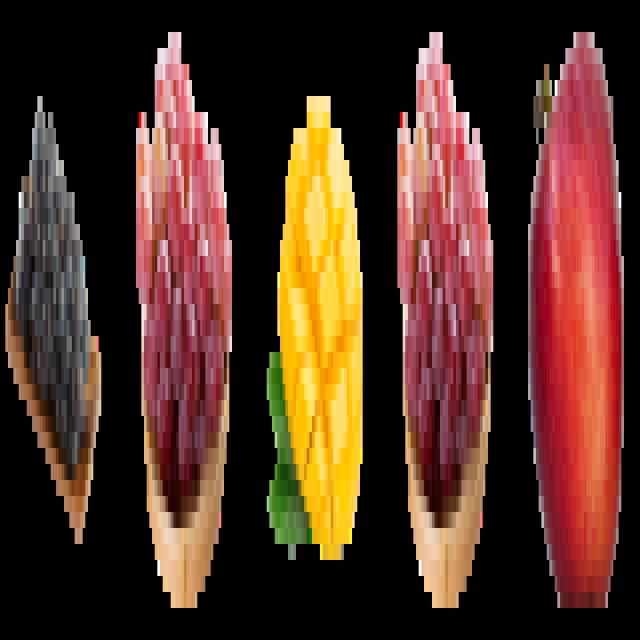apple: (523, 19, 626, 619)
grape: (393, 13, 496, 615), (132, 19, 235, 620), (6, 77, 104, 568)
mango: (268, 80, 366, 581)
